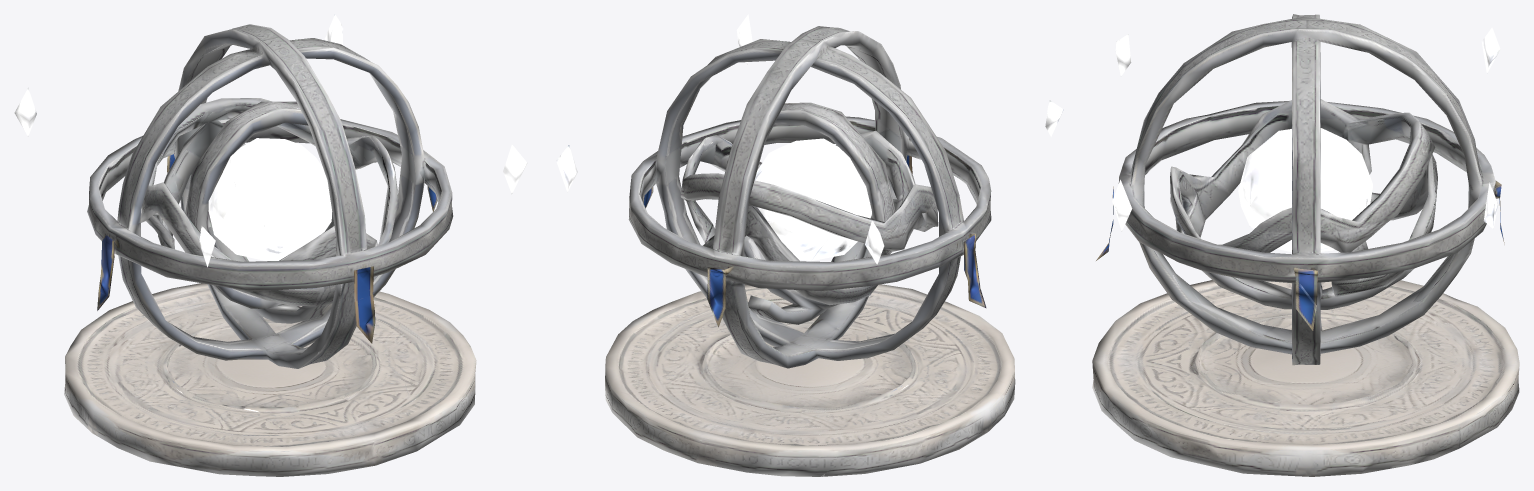
File: AstronomicalSpirit.fbx
3 views of the same model, side by side, from view 1: azimuth 30°, elevation 25°; view 2: azimuth 150°, elevation 25°; view 3: azimuth 270°, elevation 25° (orthographic). The views are drawn at different scales.
Parts seen in each view (by area): view 1: Mesh_0; view 2: Mesh_0; view 3: Mesh_0.
Boxes of the visible parts, x1,y1,x2,y2 form: Mesh_0: [14, 14, 527, 476]; Mesh_0: [556, 14, 1063, 476]; Mesh_0: [1092, 14, 1519, 476].
Size of the model in its own units: 191 by 180 by 191.
Materials: 1 (1 with a texture image).
